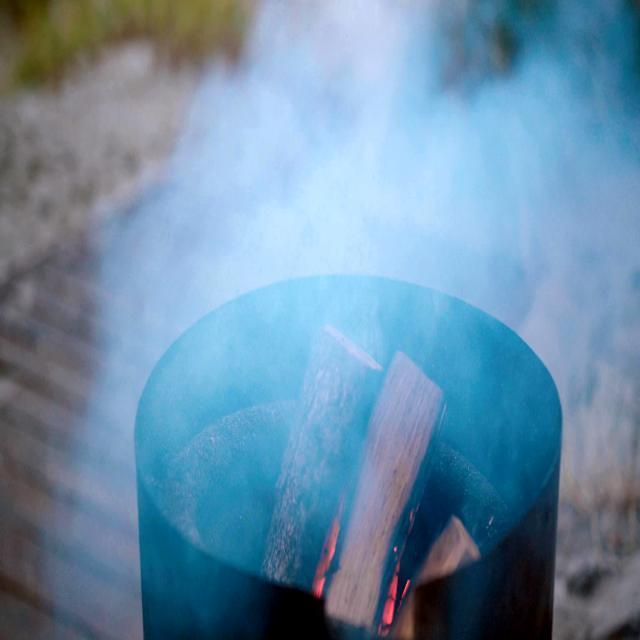Smoke: (108, 11, 640, 608)
